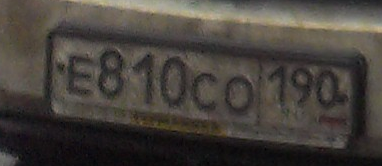character: (98, 45, 126, 100), (132, 48, 158, 105), (161, 52, 187, 109), (65, 54, 97, 99), (191, 70, 220, 116), (225, 73, 254, 116), (266, 61, 290, 111), (291, 64, 315, 114), (317, 65, 338, 113)
